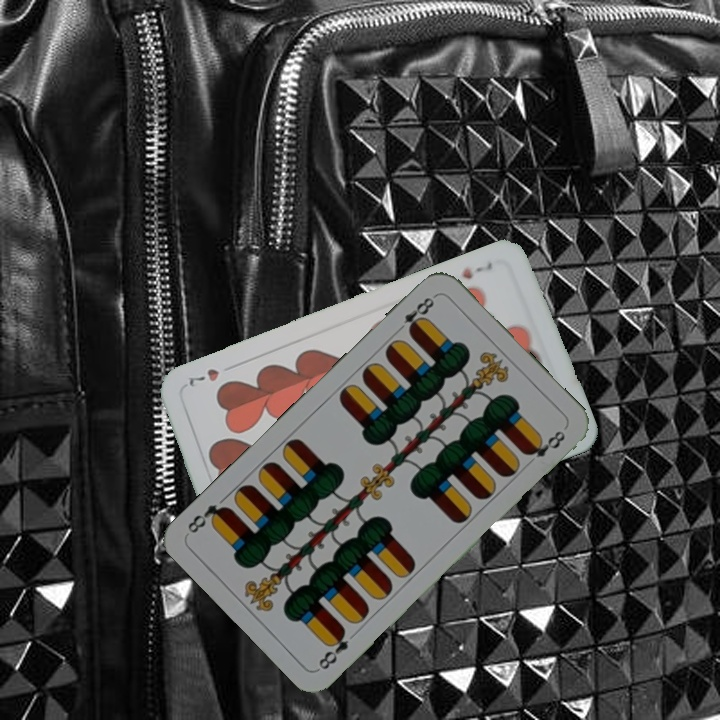E8: (392, 291, 439, 337), (314, 624, 351, 673)
H7: (457, 258, 495, 282)
